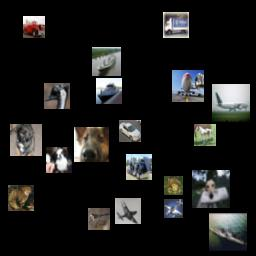airplane: (212, 84, 250, 122), (172, 70, 204, 102), (115, 198, 141, 224), (164, 199, 183, 218)
automobile: (119, 120, 141, 142)
bird: (44, 83, 70, 109), (88, 208, 110, 230)
cat: (8, 185, 34, 211)
dog: (192, 170, 230, 208), (74, 127, 109, 162), (10, 124, 42, 156), (46, 147, 72, 173)
frog: (164, 176, 183, 195)
ship: (209, 213, 247, 251), (92, 47, 121, 76), (96, 78, 122, 104)
truck: (163, 12, 189, 38), (126, 154, 152, 180), (23, 16, 45, 38)
